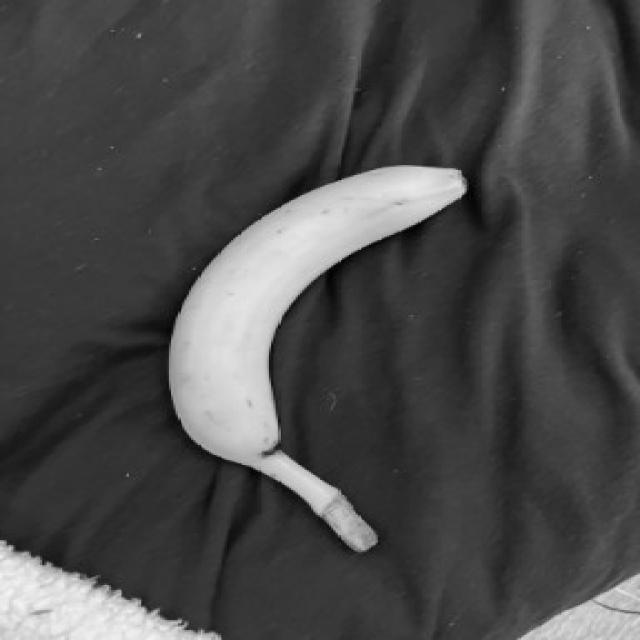Ripe: (118, 112, 507, 572)
